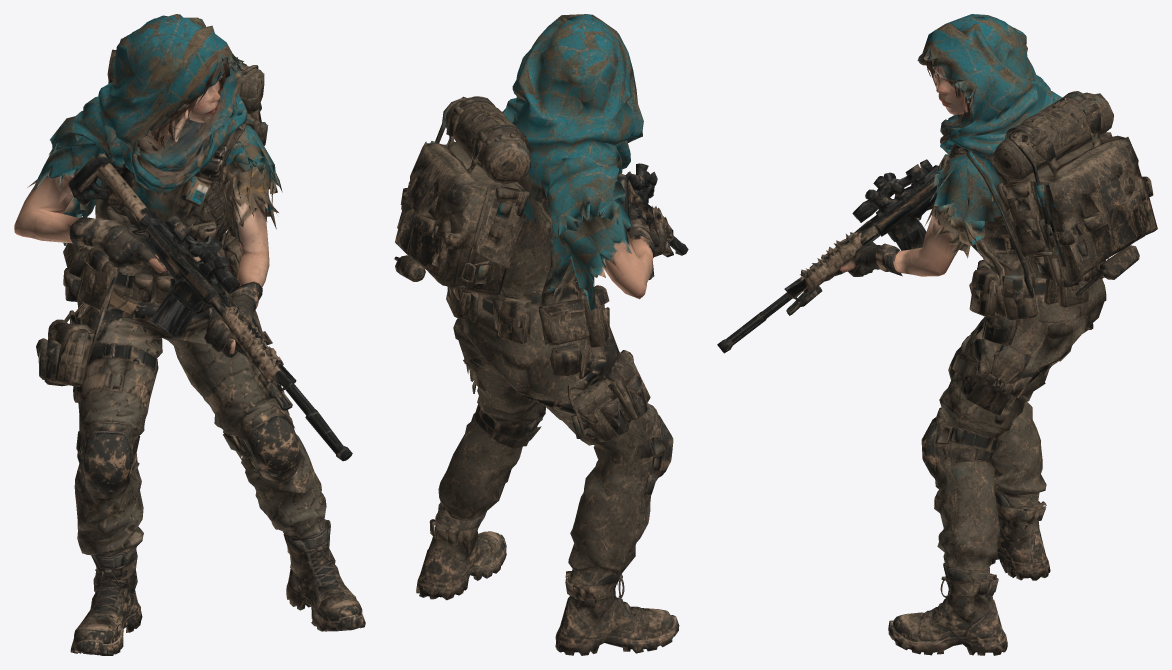
File: scout-meshy-v1.glb
3 renders of one model, left to right at view 1: azimuth 30°, elevation 25°; view 2: azimuth 150°, elevation 25°; view 3: azimuth 270°, elevation 25°, orthographic. The views are drawn at different scales.
Size of the model in its own units: 0.4409 by 0.9512 by 0.6694.
1 material, 1 textured.
